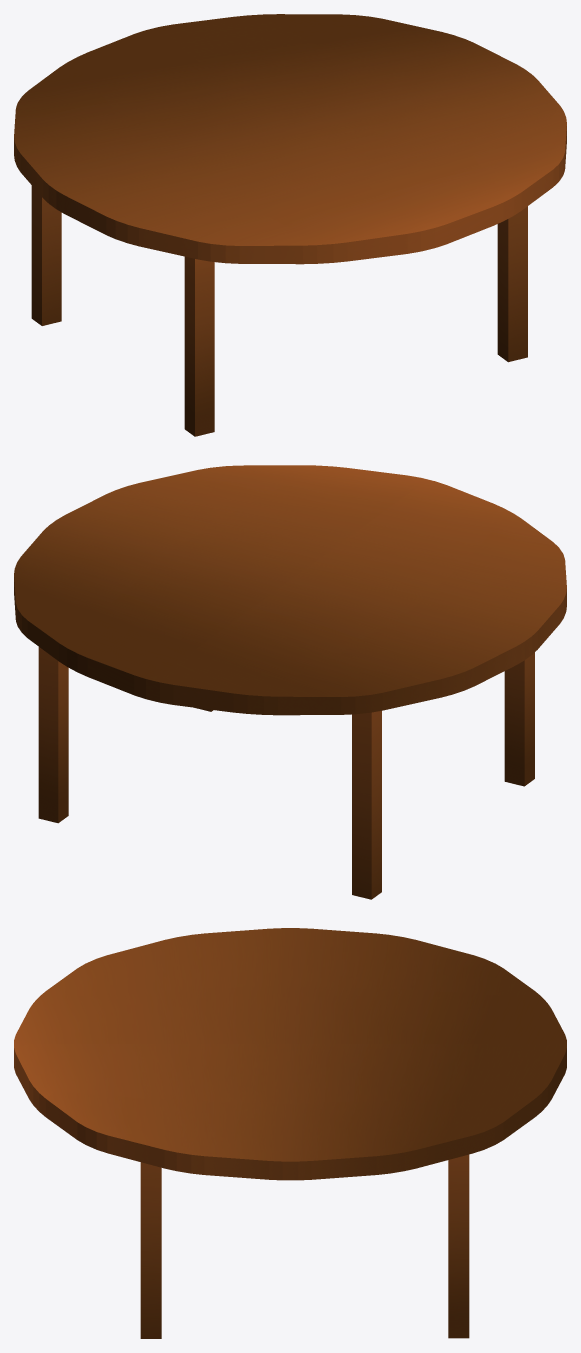
Rendered from table.glb.
The picture shows the model from 3 angles, top to bottom: view 1: azimuth 30°, elevation 25°; view 2: azimuth 150°, elevation 25°; view 3: azimuth 270°, elevation 25°; orthographic projection.
Parts seen in each view (by area): view 1: Cube.016; view 2: Cube.016; view 3: Cube.016.
Part boxes in pixels (<box>): Cube.016: <box>14,14,566,436</box>; Cube.016: <box>14,465,566,899</box>; Cube.016: <box>14,928,566,1338</box>.
Bounding box in the file's own units: 1.28 × 0.5478 × 1.28.
Materials: 1 (1 with a texture image).
